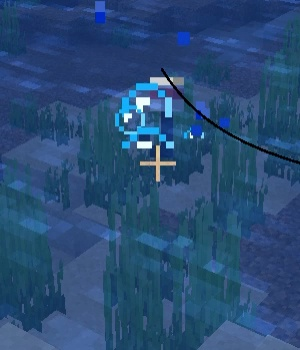up: (137, 70, 189, 149)
